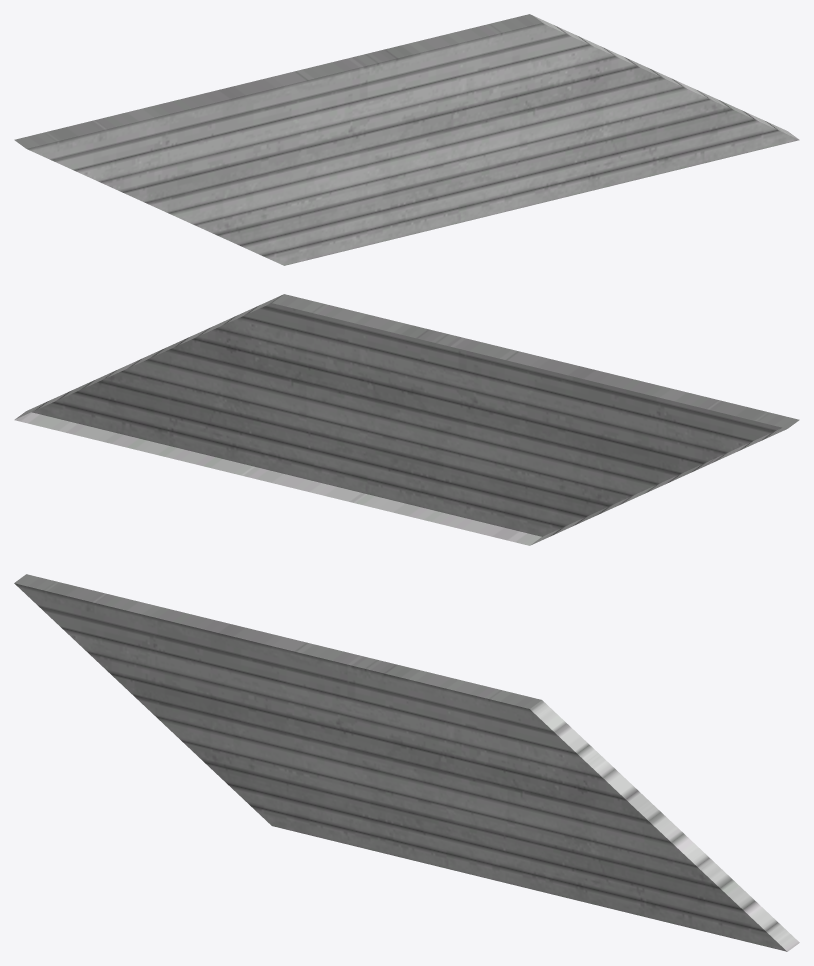
Rendered from Neon_Ceiling_6x6_LipSide.FBX.
3 views of the same model, one above another, from view 1: azimuth 30°, elevation 25°; view 2: azimuth 150°, elevation 25°; view 3: azimuth 330°, elevation 25° (orthographic).
Visible parts, largest first — view 1: Neon_Ceiling_6x6_LipSide; view 2: Neon_Ceiling_6x6_LipSide; view 3: Neon_Ceiling_6x6_LipSide.
Boxes of the visible parts, left/top/right/bottom form: Neon_Ceiling_6x6_LipSide: left=14, top=14, right=799, bottom=265; Neon_Ceiling_6x6_LipSide: left=14, top=294, right=799, bottom=545; Neon_Ceiling_6x6_LipSide: left=14, top=574, right=799, bottom=951.
Bounding box in the file's own units: 9 × 2 × 0.25.
